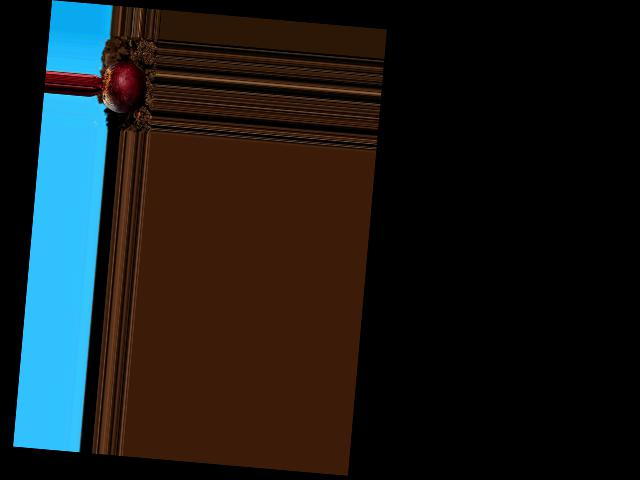beet: (89, 58, 148, 115)
